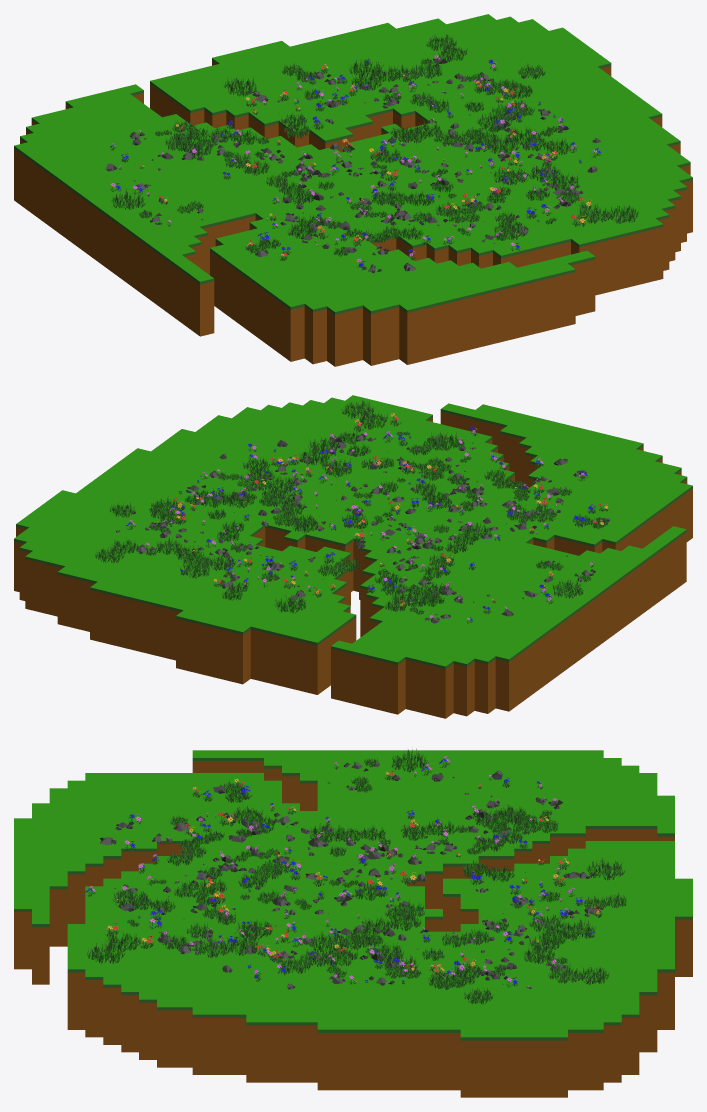
The model's file is mapa_1.fbx.
The picture shows the model from 3 angles, top to bottom: view 1: azimuth 30°, elevation 25°; view 2: azimuth 150°, elevation 25°; view 3: azimuth 270°, elevation 25°; orthographic projection. The views are drawn at different scales.
Visible parts, largest first — view 1: Plano subdividido.002; view 2: Plano subdividido.002; view 3: Plano subdividido.002.
Part boxes in pixels (left/top/right/bottom): Plano subdividido.002: left=14, top=14, right=692, bottom=366; Plano subdividido.002: left=14, top=395, right=692, bottom=718; Plano subdividido.002: left=14, top=748, right=692, bottom=1097.
Size of the model in its own units: 3800 by 440 by 3800.
